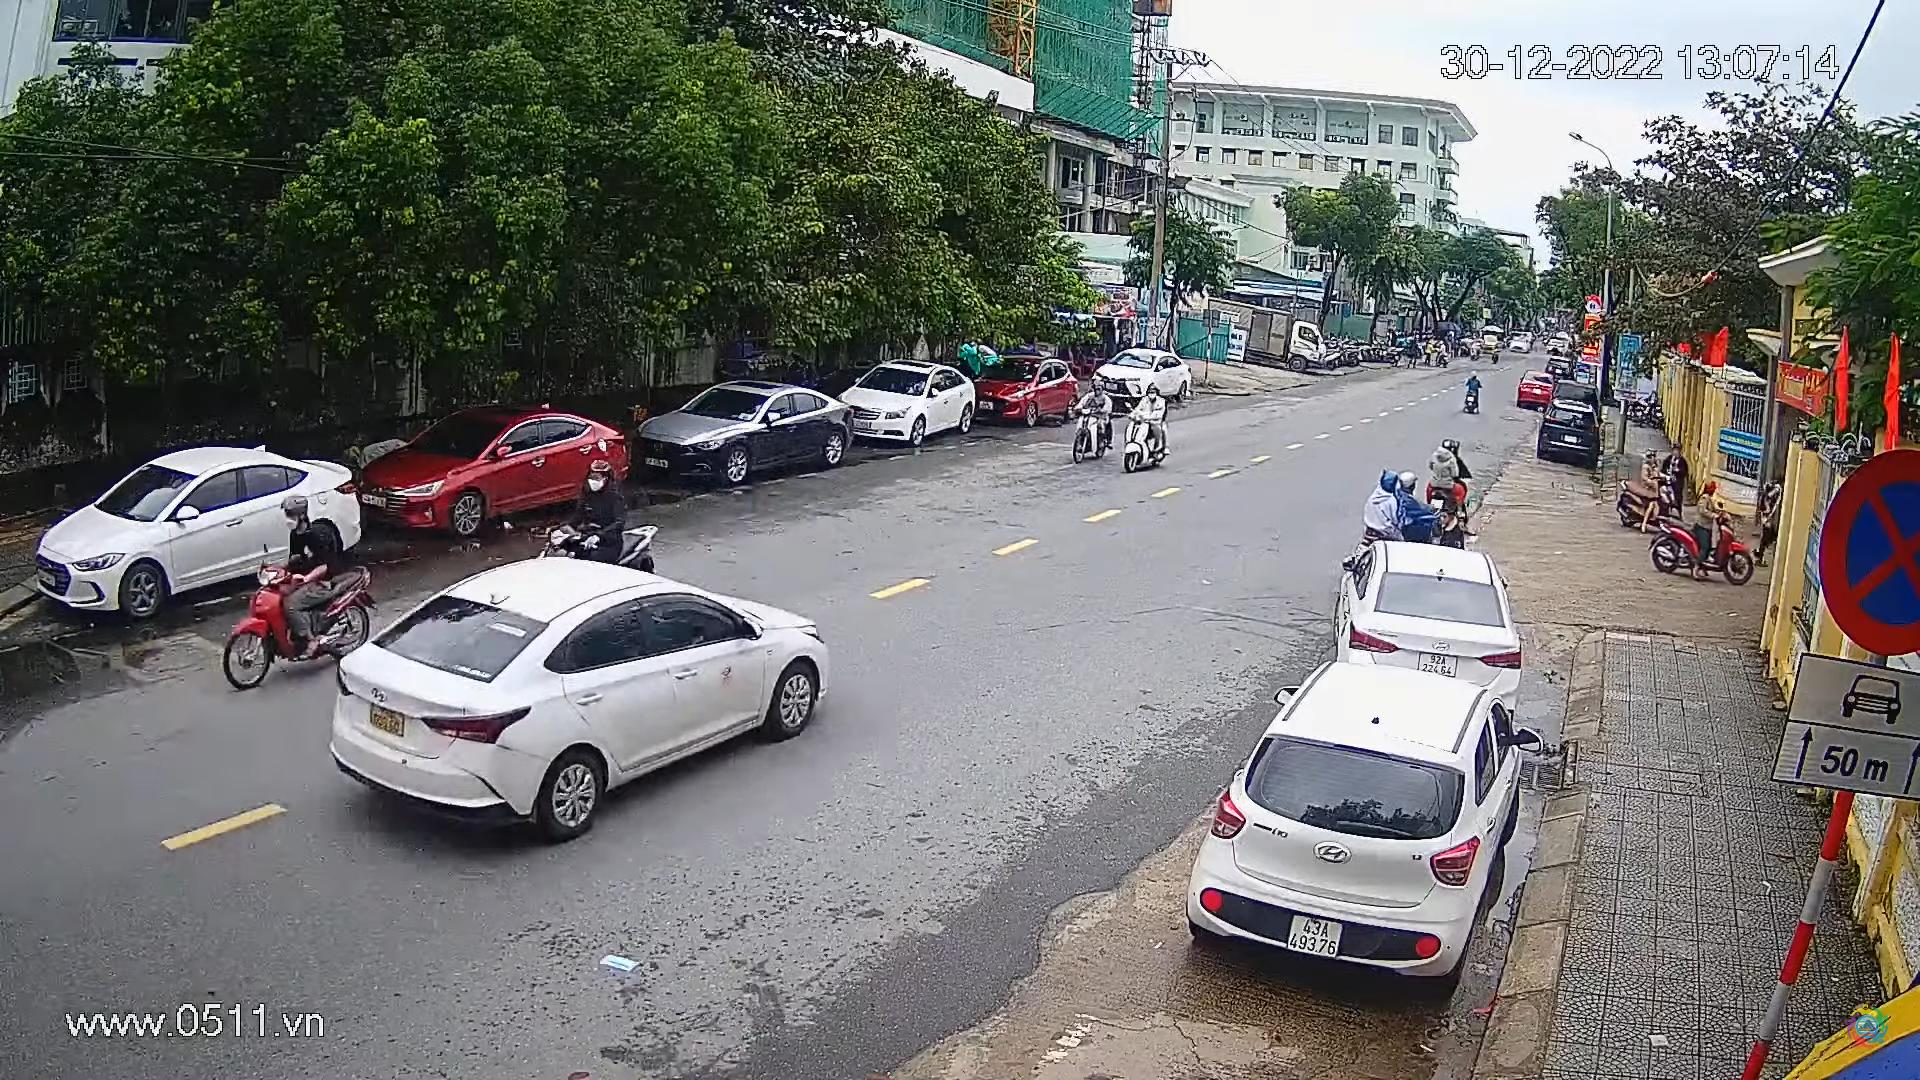car: (328, 554, 849, 865), (1188, 655, 1526, 1009), (37, 440, 365, 621), (355, 401, 636, 545), (1335, 535, 1524, 704), (629, 368, 860, 488), (825, 356, 984, 456), (963, 344, 1085, 427), (1093, 342, 1200, 402), (1532, 392, 1607, 471), (1513, 367, 1557, 414), (1506, 326, 1536, 352)
motorcycle: (218, 491, 378, 691), (1647, 473, 1756, 579), (1117, 373, 1182, 477), (1615, 448, 1683, 530), (1064, 368, 1118, 464), (1424, 438, 1469, 533), (1460, 367, 1489, 418)
truck: (1203, 294, 1327, 376)
